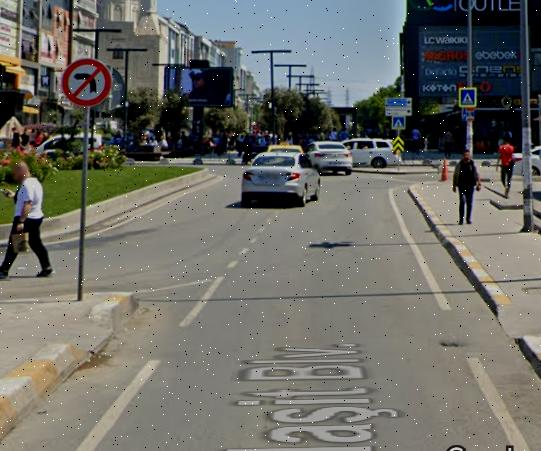leftturnsareforbidden: (61, 60, 111, 107)
